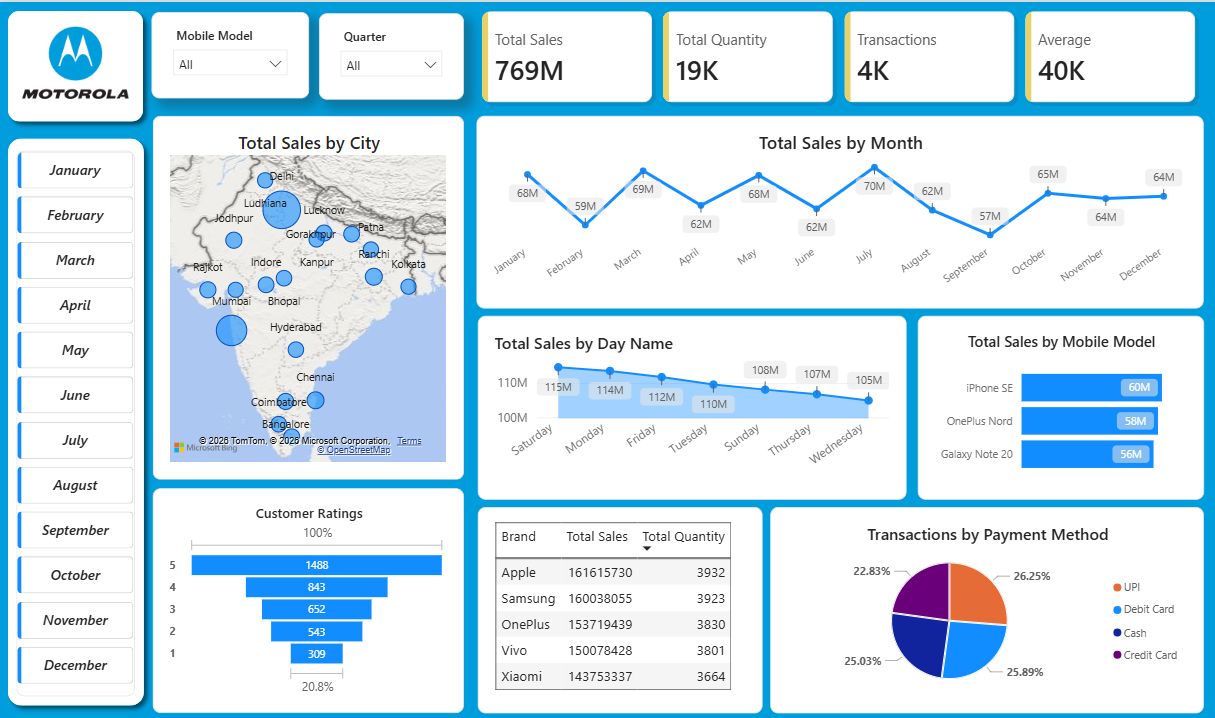

Layout of this report page (visuals, bound fields, positions):
{"tool":"powerbi","page":{"name":"Page 1","canvas":[1280,720],"ordinal":0},"visuals":[{"type":"shape","box":[0,0,152.9,128.2],"z":0},{"type":"image","box":[7.1,16.7,139.3,96.4],"z":1000},{"type":"shape","box":[0,127.5,153.8,585],"z":2000},{"type":"advancedSlicerVisual","fields":{"Values":["Mobile Sales Data.Date.Variation.Date Hierarchy.Month"]},"box":[17.3,149.3,118.7,545.3],"z":3000},{"type":"cardVisual","fields":{"Data":["Mobile Sales Data.Total Sales","Mobile Sales Data.Total Quantity","Mobile Sales Data.Transactions","Mobile Sales Data.Average"]},"box":[477.5,3.8,727.5,102.5],"z":4000},{"type":"map","fields":{"Category":["Mobile Sales Data.City"],"Size":["Mobile Sales Data.Total Sales"]},"box":[153.8,113.8,311.2,363.8],"z":5000},{"type":"lineChart","fields":{"Category":["Mobile Sales Data.Date.Variation.Date Hierarchy.Month","Mobile Sales Data.Date.Variation.Date Hierarchy.Day"],"Y":["Mobile Sales Data.Total Sales"]},"box":[477.5,113.8,727.5,192.5],"z":6000},{"type":"clusteredBarChart","fields":{"Category":["Mobile Sales Data.Mobile Model"],"Y":["Mobile Sales Data.Total Sales"]},"box":[918.8,313.8,286.2,183.8],"z":7000},{"type":"pieChart","fields":{"Category":["Mobile Sales Data.Payment Method"],"Y":["Mobile Sales Data.Transactions"]},"box":[771.2,505,433.8,206.2],"z":8000},{"type":"funnel","title":"Customer Ratings","fields":{"Category":["Mobile Sales Data.Customer Ratings"],"Y":["CountNonNull(Mobile Sales Data.Customer Ratings)"]},"box":[153.8,486.2,311.2,225],"z":9000},{"type":"areaChart","fields":{"Category":["Mobile Sales Data.Day Name"],"Y":["Mobile Sales Data.Total Sales"]},"box":[478.8,313.8,428.8,183.8],"z":10000},{"type":"slicer","fields":{"Values":["Mobile Sales Data.Mobile Model"]},"box":[152.5,10,157.5,86.2],"z":11000},{"type":"tableEx","fields":{"Values":["Mobile Sales Data.Brand","Mobile Sales Data.Total Sales","Mobile Sales Data.Total Quantity"]},"box":[478.8,505,285,206.2],"z":12000},{"type":"slicer","fields":{"Values":["Mobile Sales Data.Date.Variation.Date Hierarchy.Quarter"]},"box":[320,11.2,145,86.2],"z":13000}]}

Visuals, with their boxes in screenshot pixels (x1, y1, x2, y2):
shape: l=3, t=6, r=152, b=131
image: l=10, t=23, r=145, b=116
shape: l=3, t=130, r=152, b=698
advancedSlicerVisual - Mobile Sales Data.Date.Variation.Date Hierarchy.Month: l=20, t=151, r=135, b=680
cardVisual - Mobile Sales Data.Total Sales x Mobile Sales Data.Total Quantity: l=467, t=10, r=1173, b=109
map - Mobile Sales Data.City x Mobile Sales Data.Total Sales: l=152, t=117, r=454, b=470
lineChart - Mobile Sales Data.Date.Variation.Date Hierarchy.Month x Mobile Sales Data.Date.Variation.Date Hierarchy.Day: l=467, t=117, r=1173, b=304
clusteredBarChart - Mobile Sales Data.Mobile Model x Mobile Sales Data.Total Sales: l=895, t=311, r=1173, b=489
pieChart - Mobile Sales Data.Payment Method x Mobile Sales Data.Transactions: l=752, t=496, r=1173, b=697
"Customer Ratings" funnel: l=152, t=478, r=454, b=697
areaChart - Mobile Sales Data.Day Name x Mobile Sales Data.Total Sales: l=468, t=311, r=884, b=489
slicer - Mobile Sales Data.Mobile Model: l=151, t=16, r=304, b=100
tableEx - Mobile Sales Data.Brand x Mobile Sales Data.Total Sales: l=468, t=496, r=744, b=697
slicer - Mobile Sales Data.Date.Variation.Date Hierarchy.Quarter: l=314, t=17, r=454, b=101
